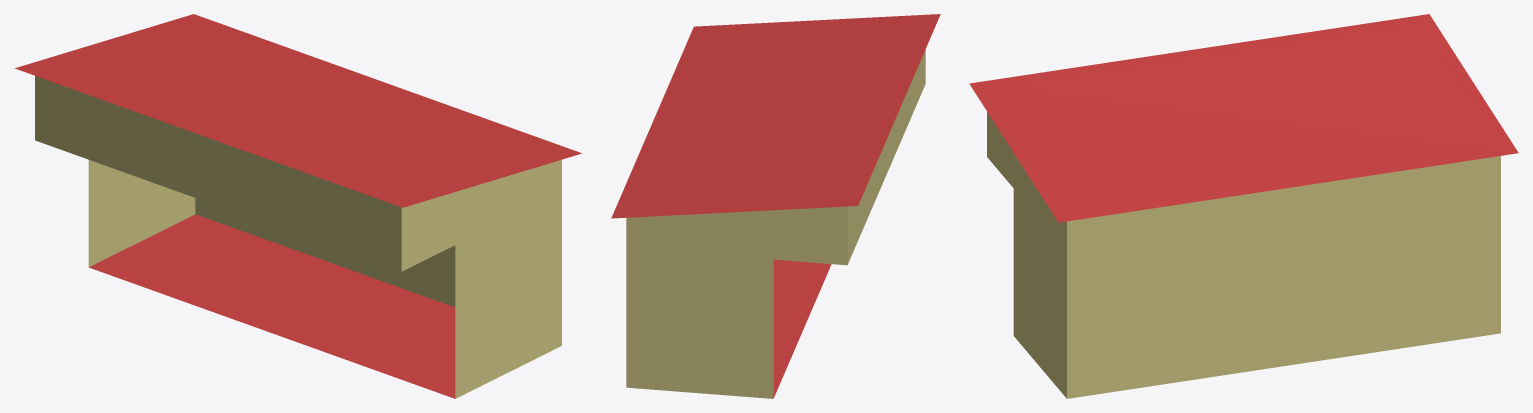
The picture shows the model from 3 angles, left to right: view 1: azimuth 30°, elevation 25°; view 2: azimuth 150°, elevation 25°; view 3: azimuth 270°, elevation 25°; orthographic projection. The views are drawn at different scales.
Bounding box in the file's own units: 22.37 × 29.64 × 12.92.
